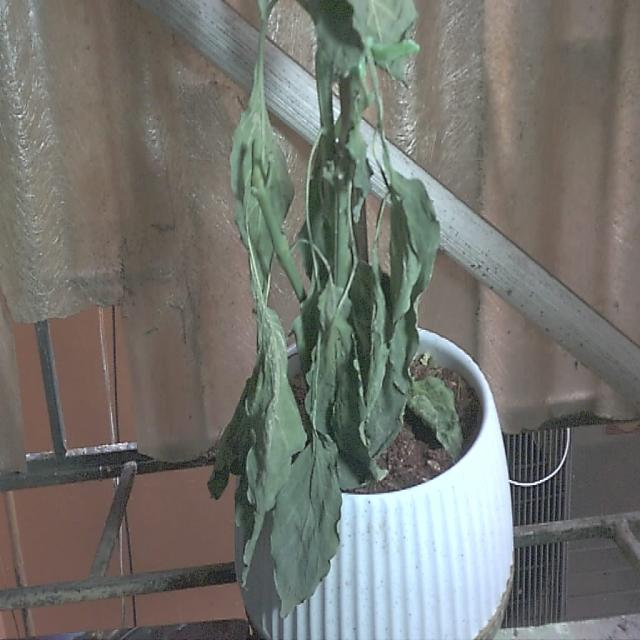Leaf: (272, 436, 342, 606)
